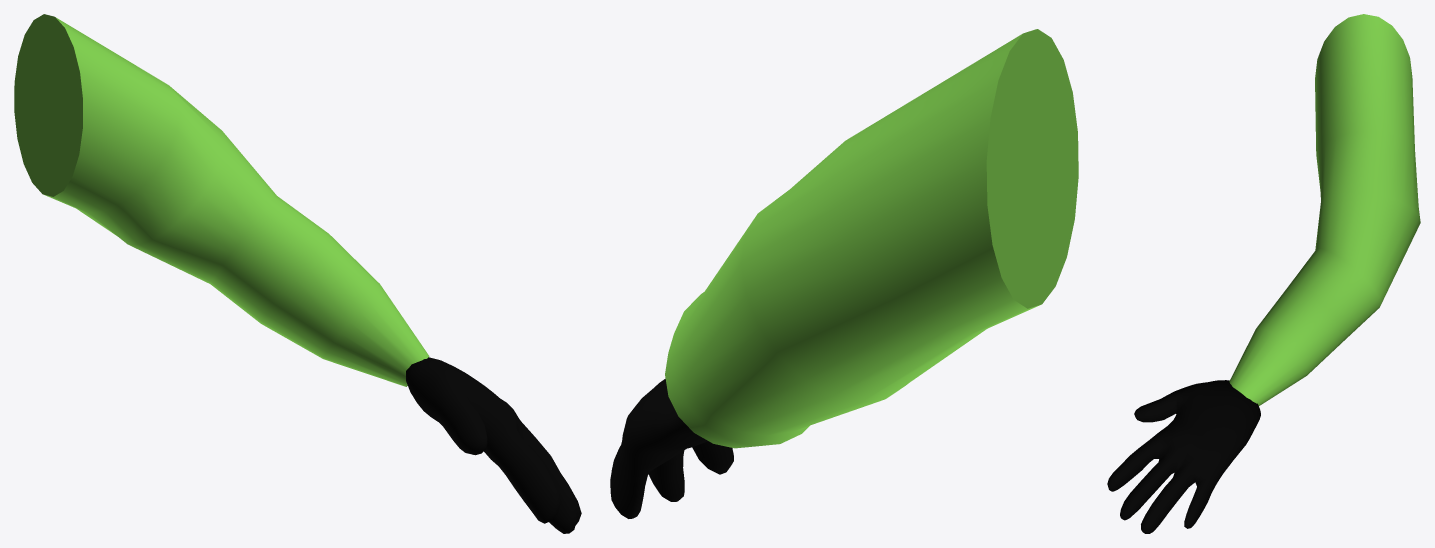
File: FrijolitoBrazoIzq.obj
3 renders of one model, left to right at view 1: azimuth 30°, elevation 25°; view 2: azimuth 150°, elevation 25°; view 3: azimuth 270°, elevation 25°, orthographic. The views are drawn at different scales.
Parts seen in each view (by area): view 1: polySurface125; view 2: polySurface125; view 3: polySurface125.
Part boxes in pixels (box(x1,y1,x2,y2)): polySurface125: box(14, 14, 581, 533); polySurface125: box(610, 29, 1078, 518); polySurface125: box(1107, 14, 1420, 533).
Size of the model in its own units: 1.72 by 2.07 by 1.54.
